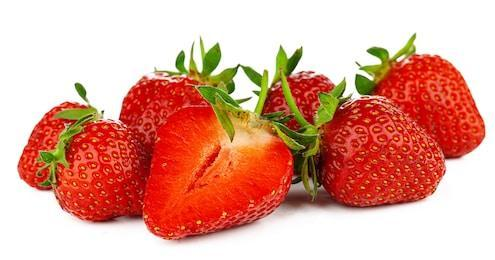Fresa: (140, 99, 299, 245), (310, 90, 448, 213), (366, 49, 489, 165), (113, 63, 238, 161), (48, 113, 152, 227), (14, 98, 103, 192), (258, 66, 342, 145)
